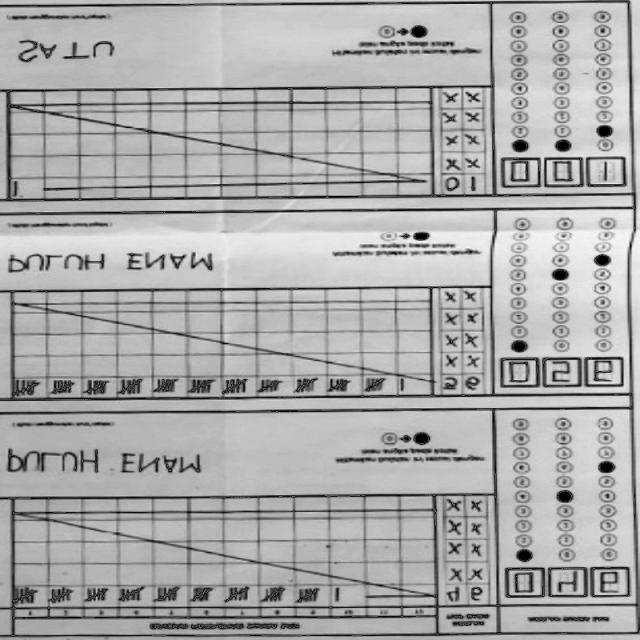Suara: (502, 563, 634, 602), (496, 354, 626, 393), (498, 154, 628, 192)
